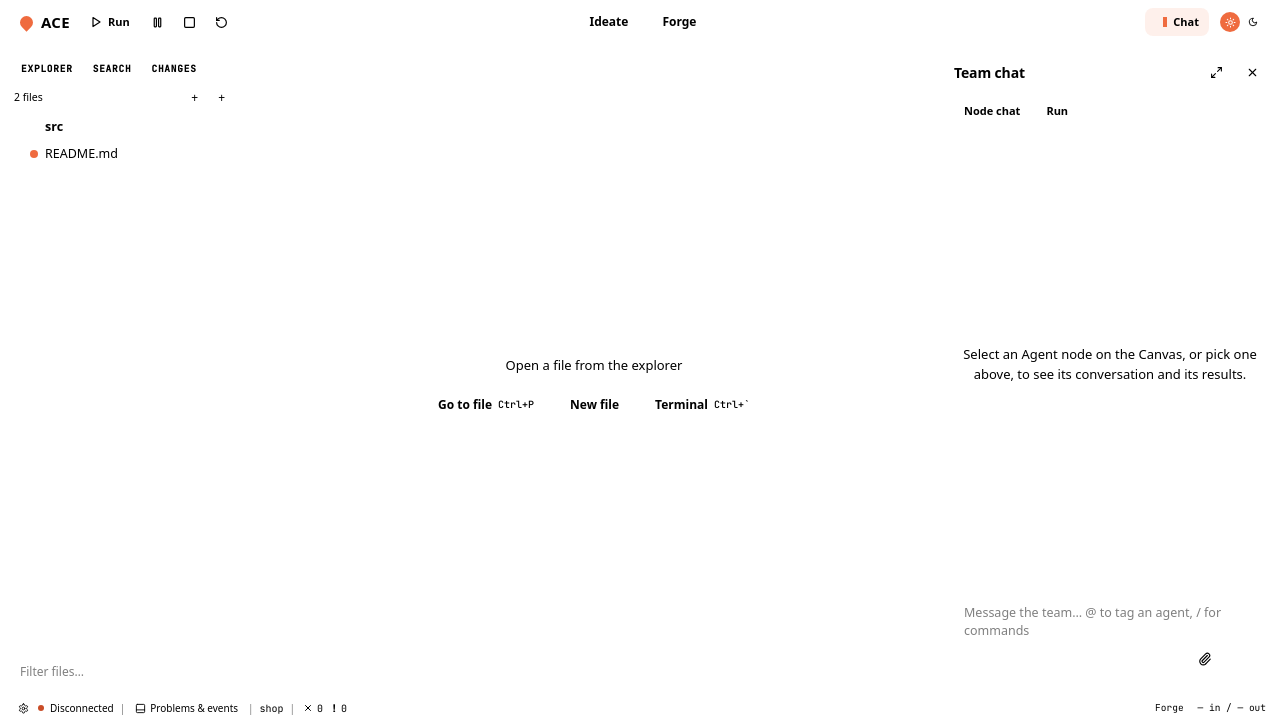
Scenario: D334 FR-GIT-003 Forge in the theme’s code view › maximizes the panel over the code column, and restores it
Check: the element with test id "forge" is shown, box [10, 58, 764, 686]
Type keys "{Control>}j{/Control}"
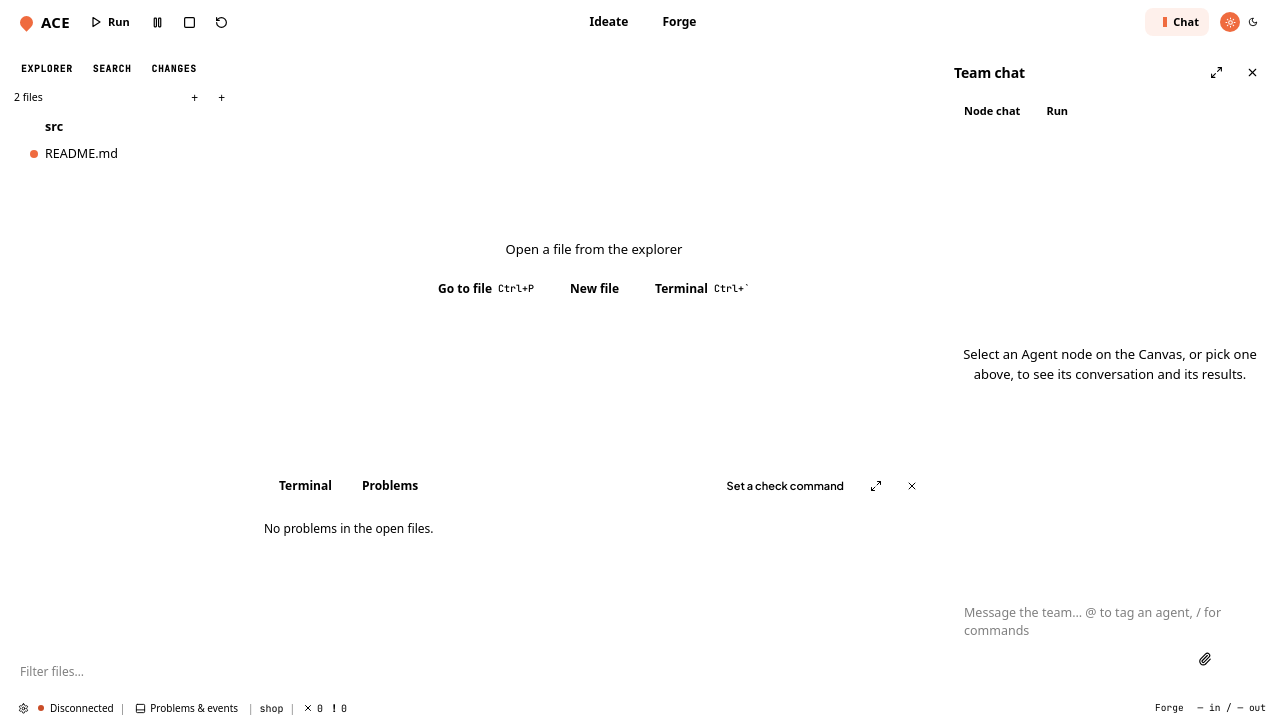
Click the button named "Maximize panel". click: (876, 486)
box: [862, 472, 890, 500]
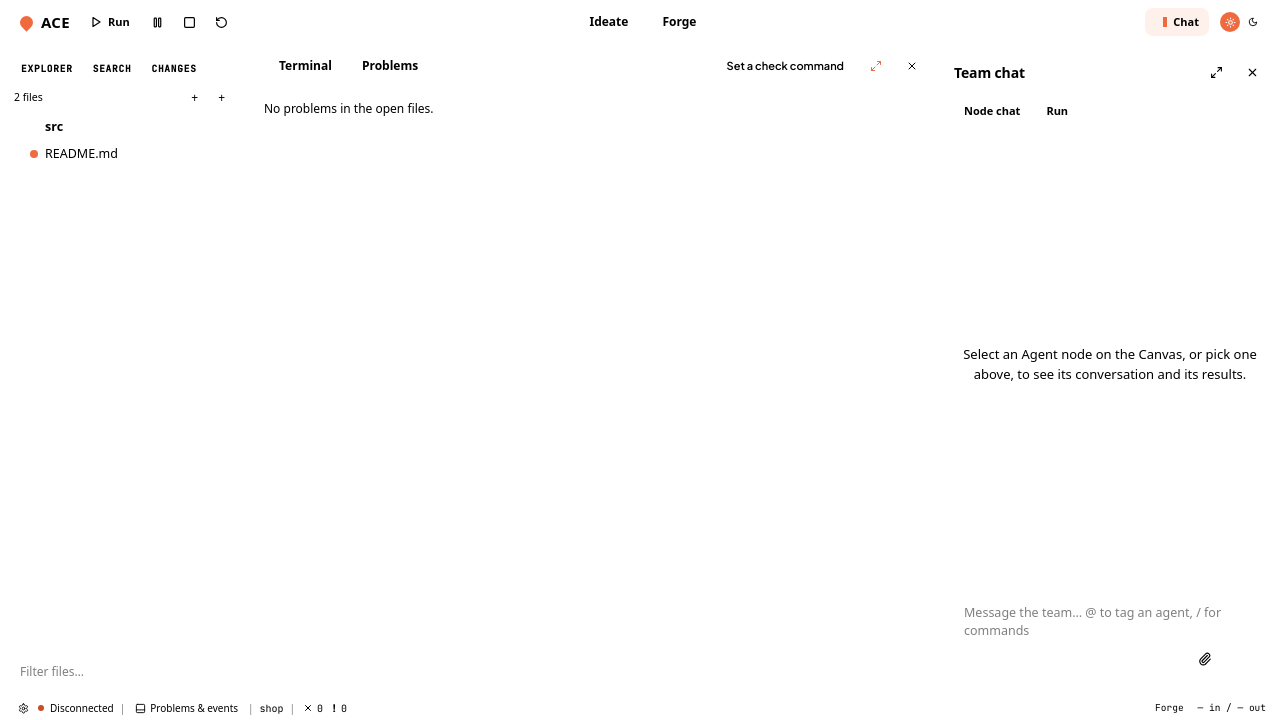
Check: the element "Editor" is gone
Click the button named "Restore panel size". click: (876, 66)
box: [862, 52, 890, 80]
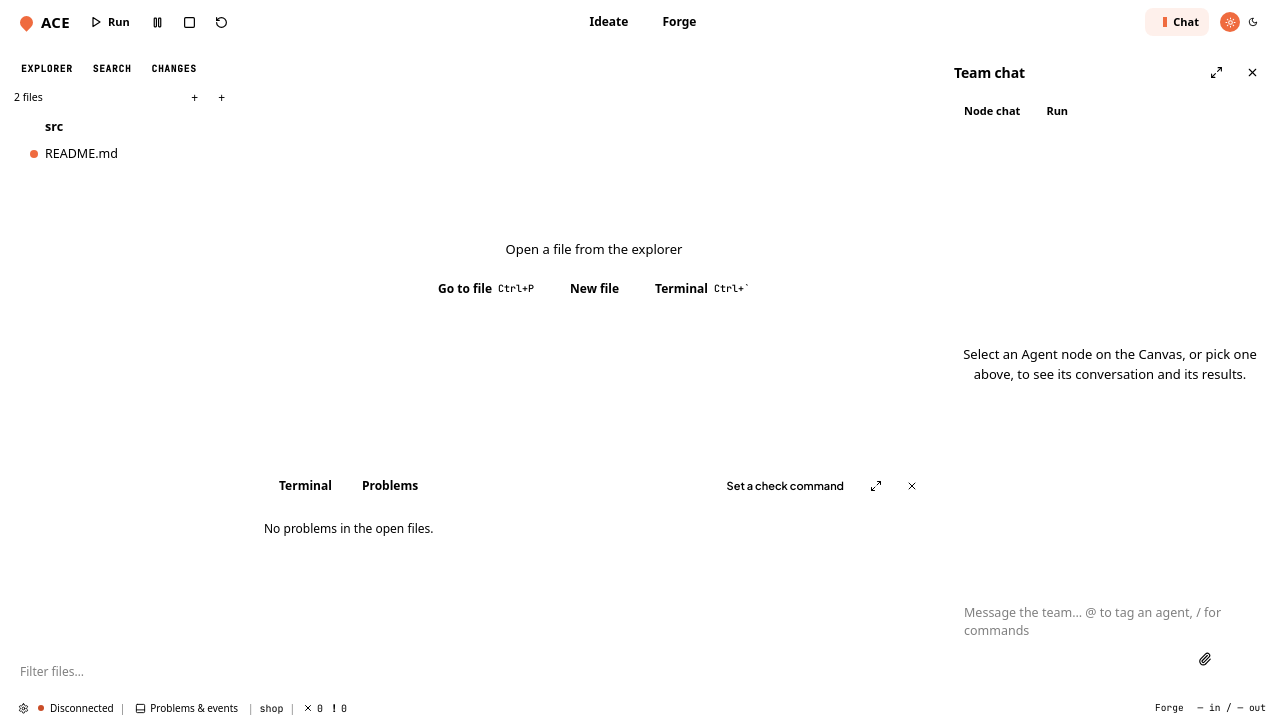
Check: the element named "Panel" is shown, box [264, 472, 926, 537]
Check: the element named "Editor" is shown, box [424, 240, 764, 304]
